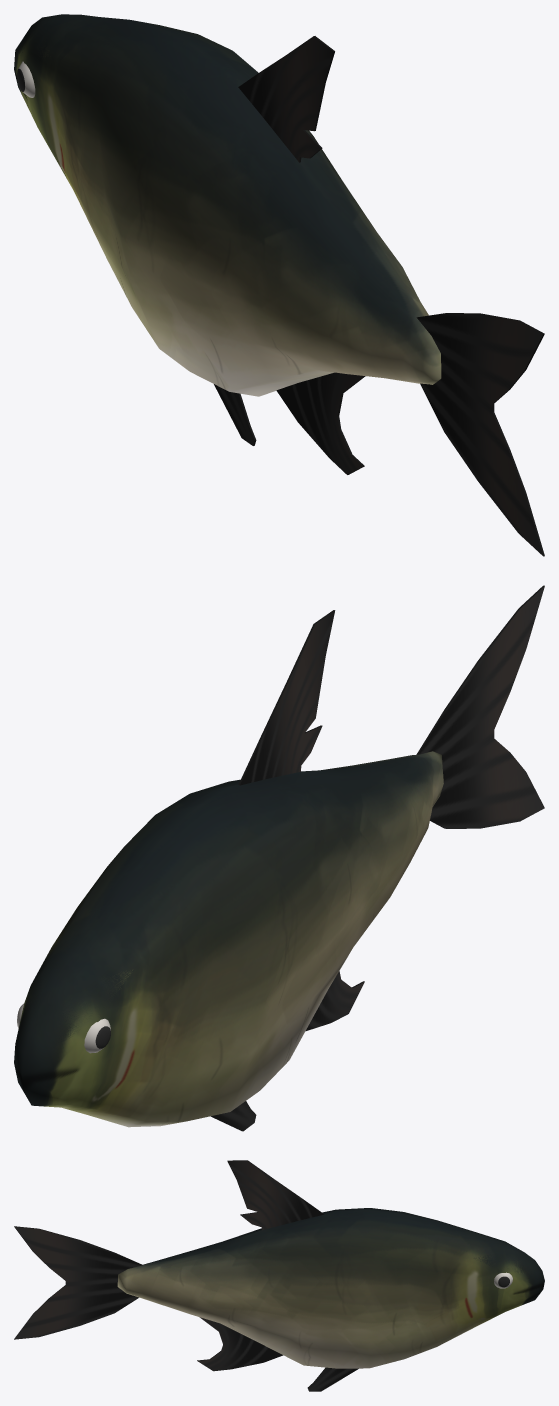
File: Common_Beam.fbx
3 views of the same model, one above another, from view 1: azimuth 30°, elevation 25°; view 2: azimuth 150°, elevation 25°; view 3: azimuth 270°, elevation 25° (orthographic). The views are drawn at different scales.
Visible parts, largest first — view 1: Plane.014; view 2: Plane.014; view 3: Plane.014.
Boxes of the visible parts, <box> form: Plane.014: <box>14,14,544,556</box>; Plane.014: <box>14,585,544,1131</box>; Plane.014: <box>14,1160,544,1391</box>.
Size of the model in its own units: 6.69 by 19.65 by 40.91.
1 material, 1 textured.
